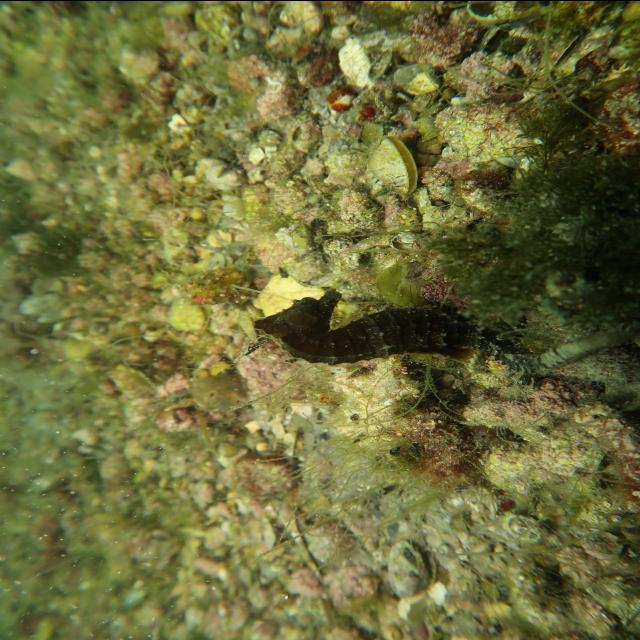Hippo: (238, 282, 346, 356)
